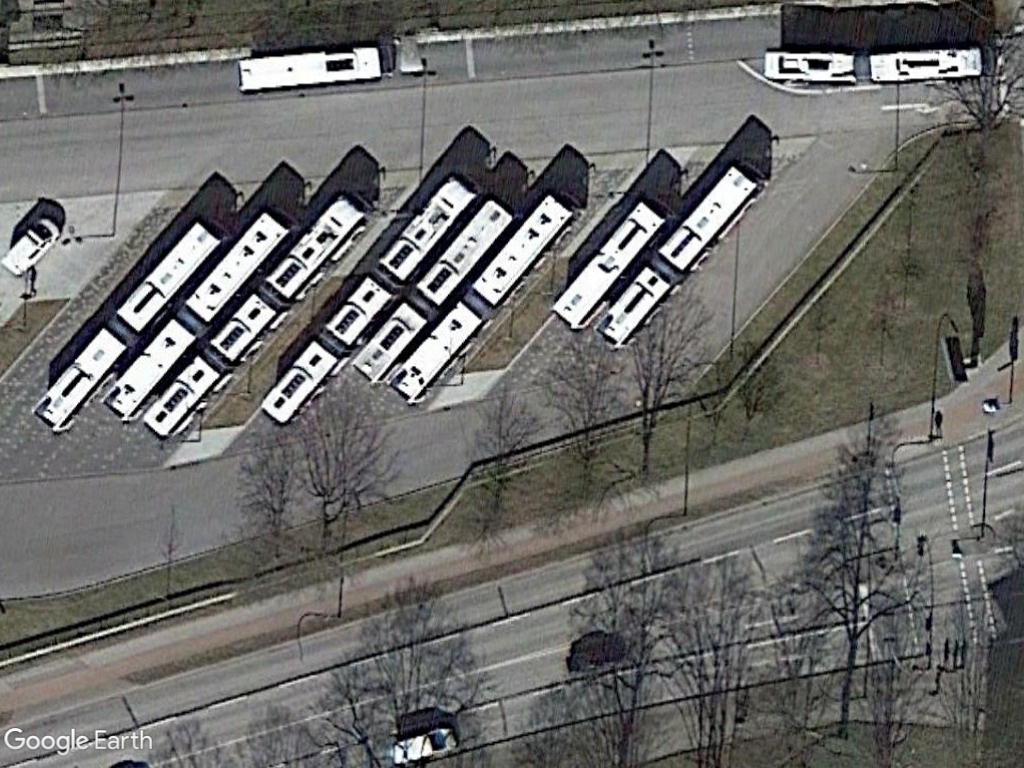bus: (141, 286, 294, 448), (256, 271, 397, 433), (547, 195, 667, 339), (180, 195, 295, 333), (109, 213, 232, 337), (466, 185, 580, 316), (651, 158, 769, 279), (250, 191, 370, 308), (25, 320, 136, 438), (375, 170, 480, 287), (387, 297, 485, 411), (100, 314, 201, 423), (233, 39, 397, 100), (588, 262, 673, 350), (861, 43, 992, 87), (757, 46, 866, 85)
van: (0, 213, 62, 280)
